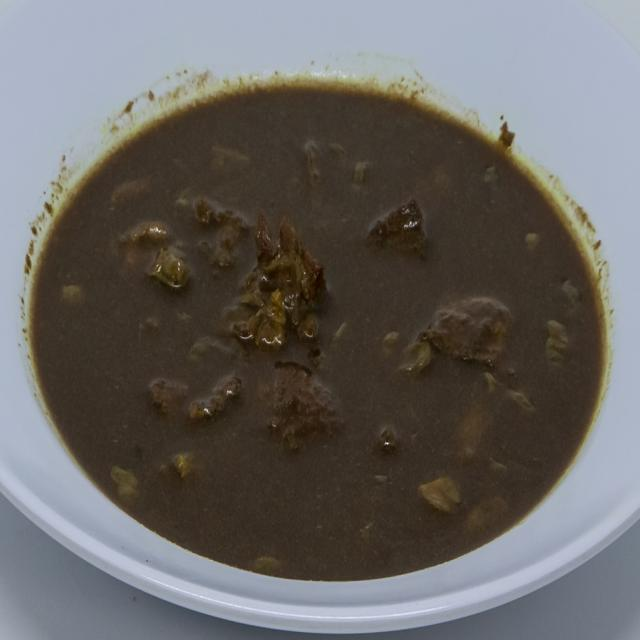Rawon-Surabaya: (37, 64, 612, 588)
